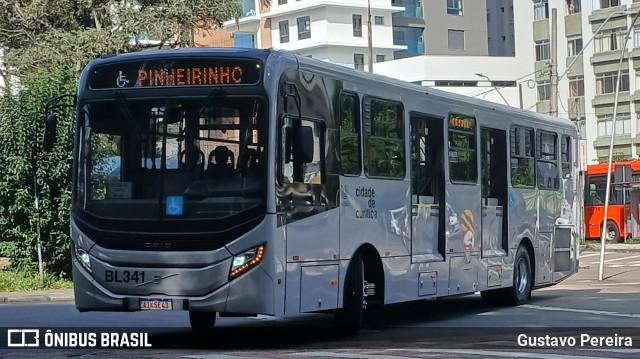PINHEIRINHO: (133, 63, 247, 89)
